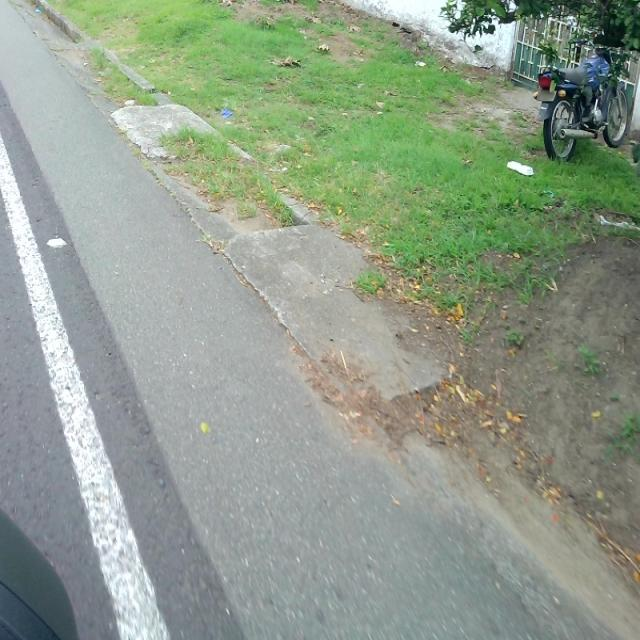DITCH: (1, 2, 638, 637), (6, 1, 638, 638)
